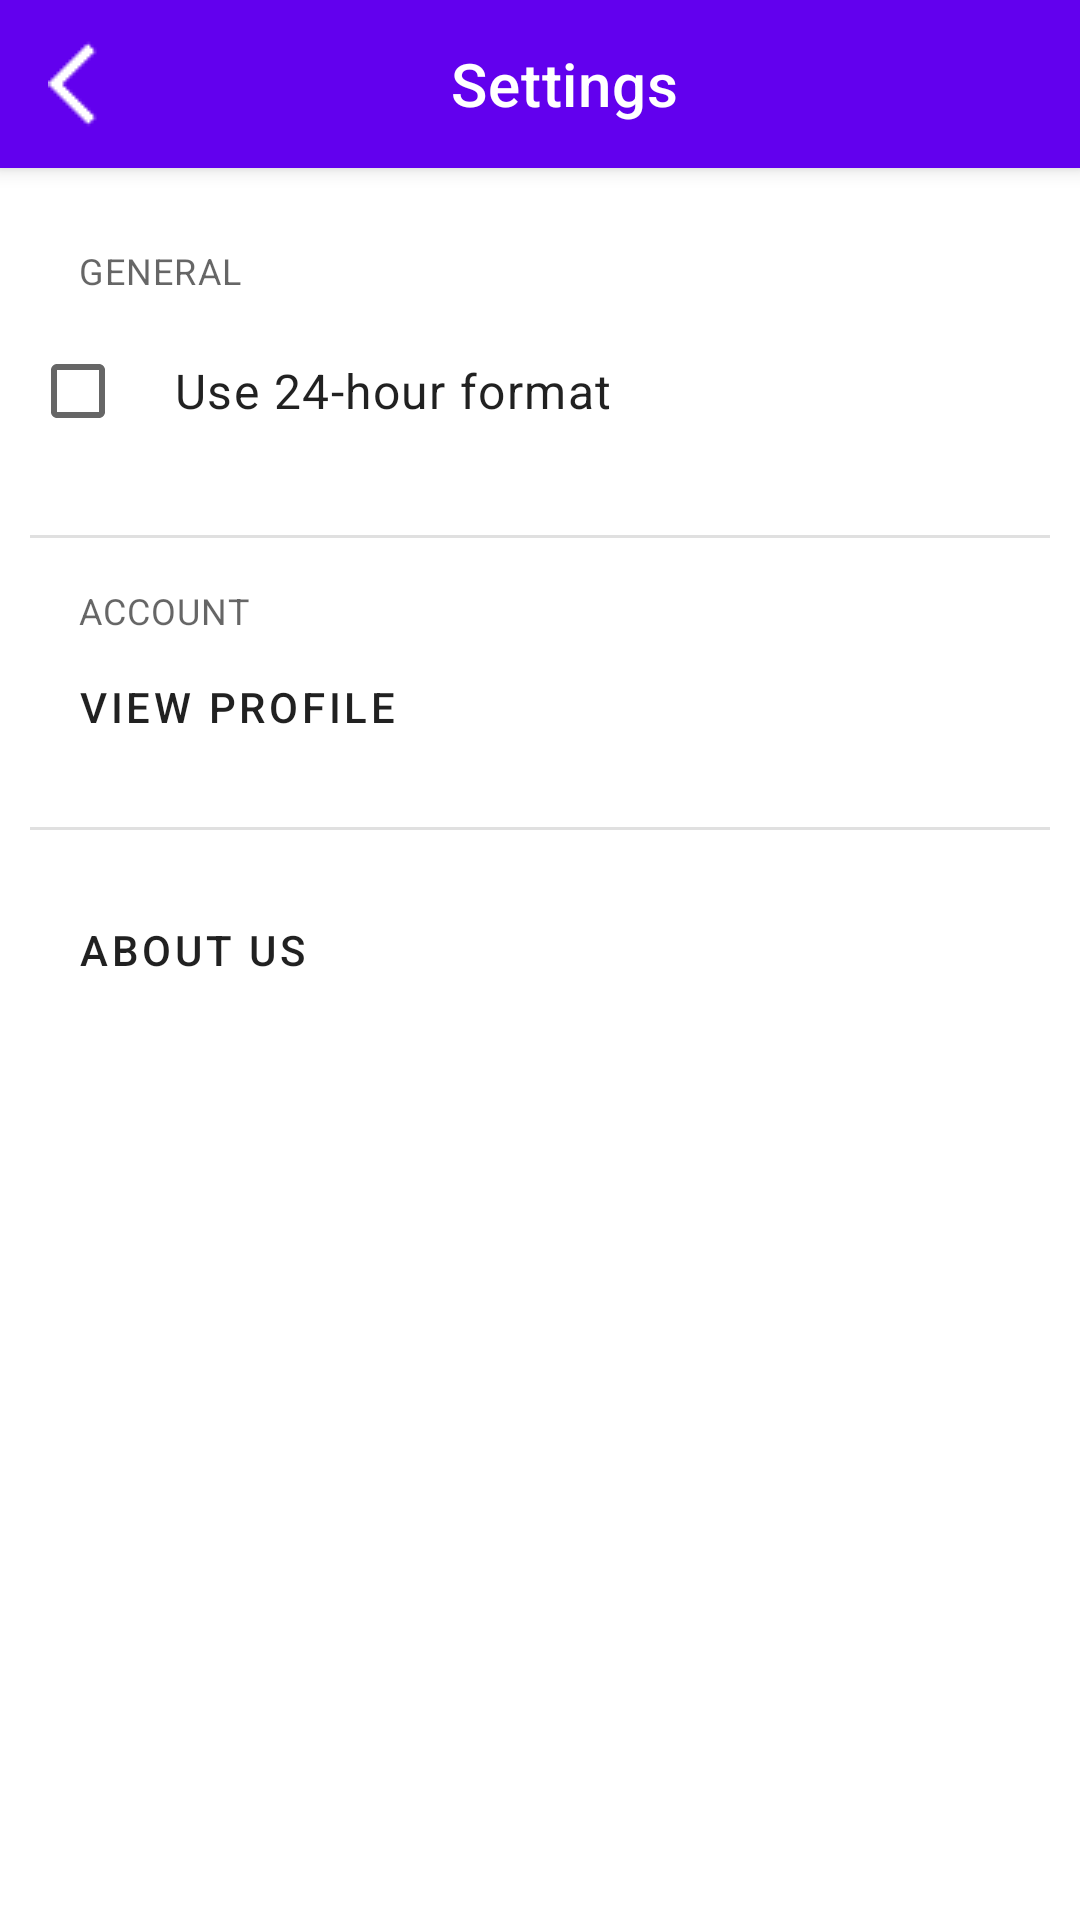

Icons on this 1080*1920 Android screen, each with its box as (x1, y1, x2, y2):
arrowleft: (48, 43, 96, 125)
